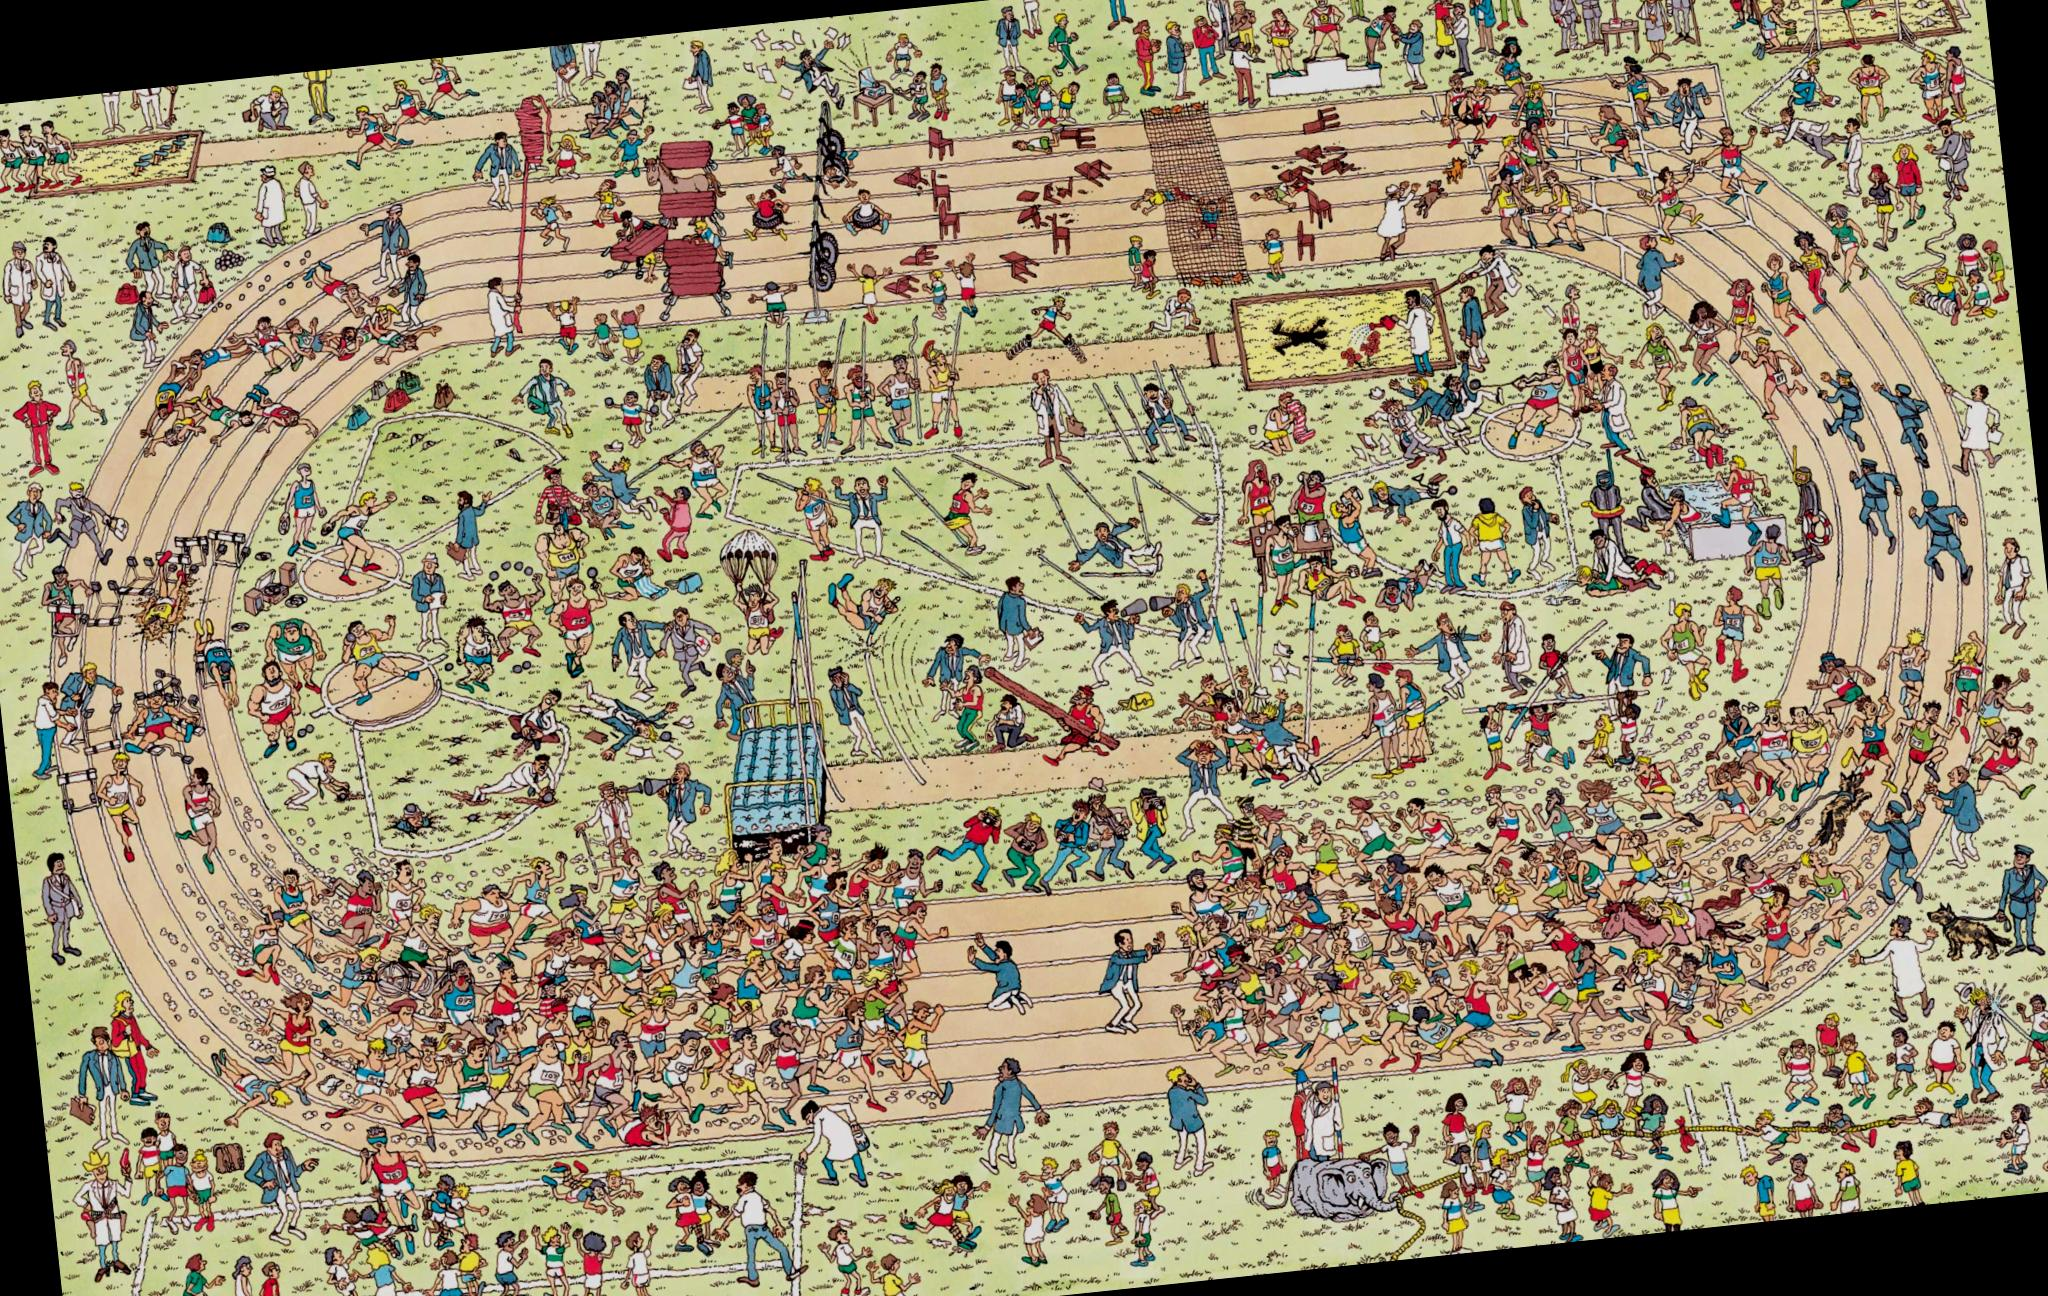waldo: (542, 464, 563, 488)
